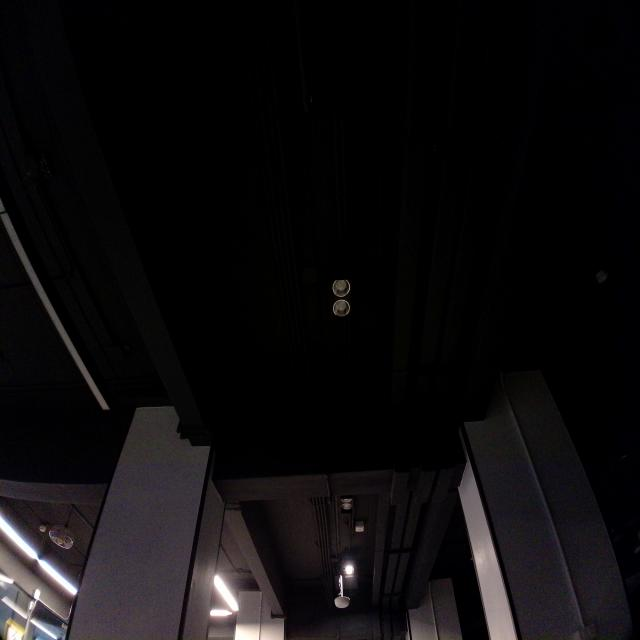lamp1_off: (318, 254, 364, 338)
